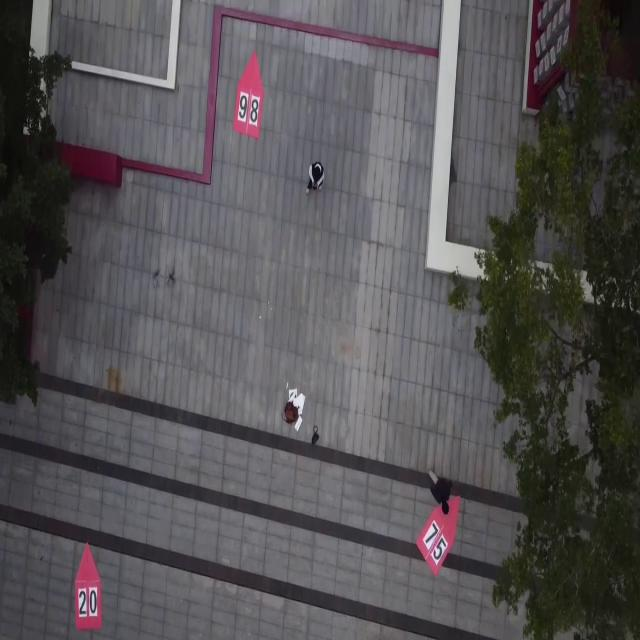-sign-: (416, 496, 461, 579), (232, 50, 264, 138), (74, 543, 103, 630)
